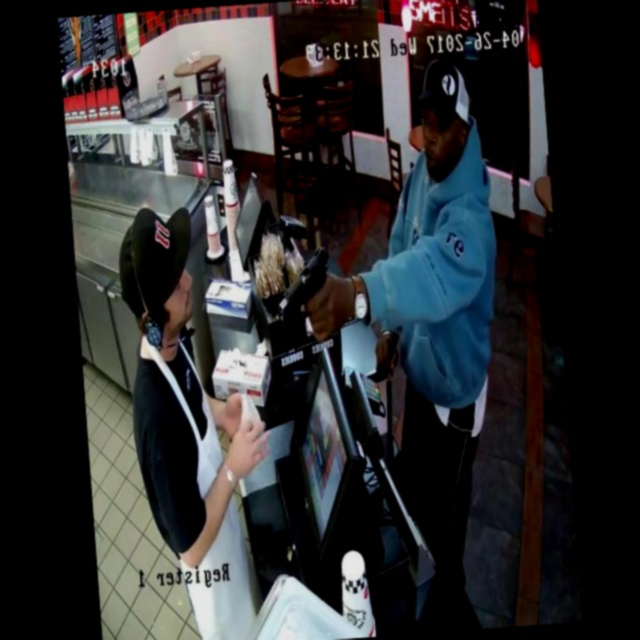gun: (267, 237, 356, 352)
